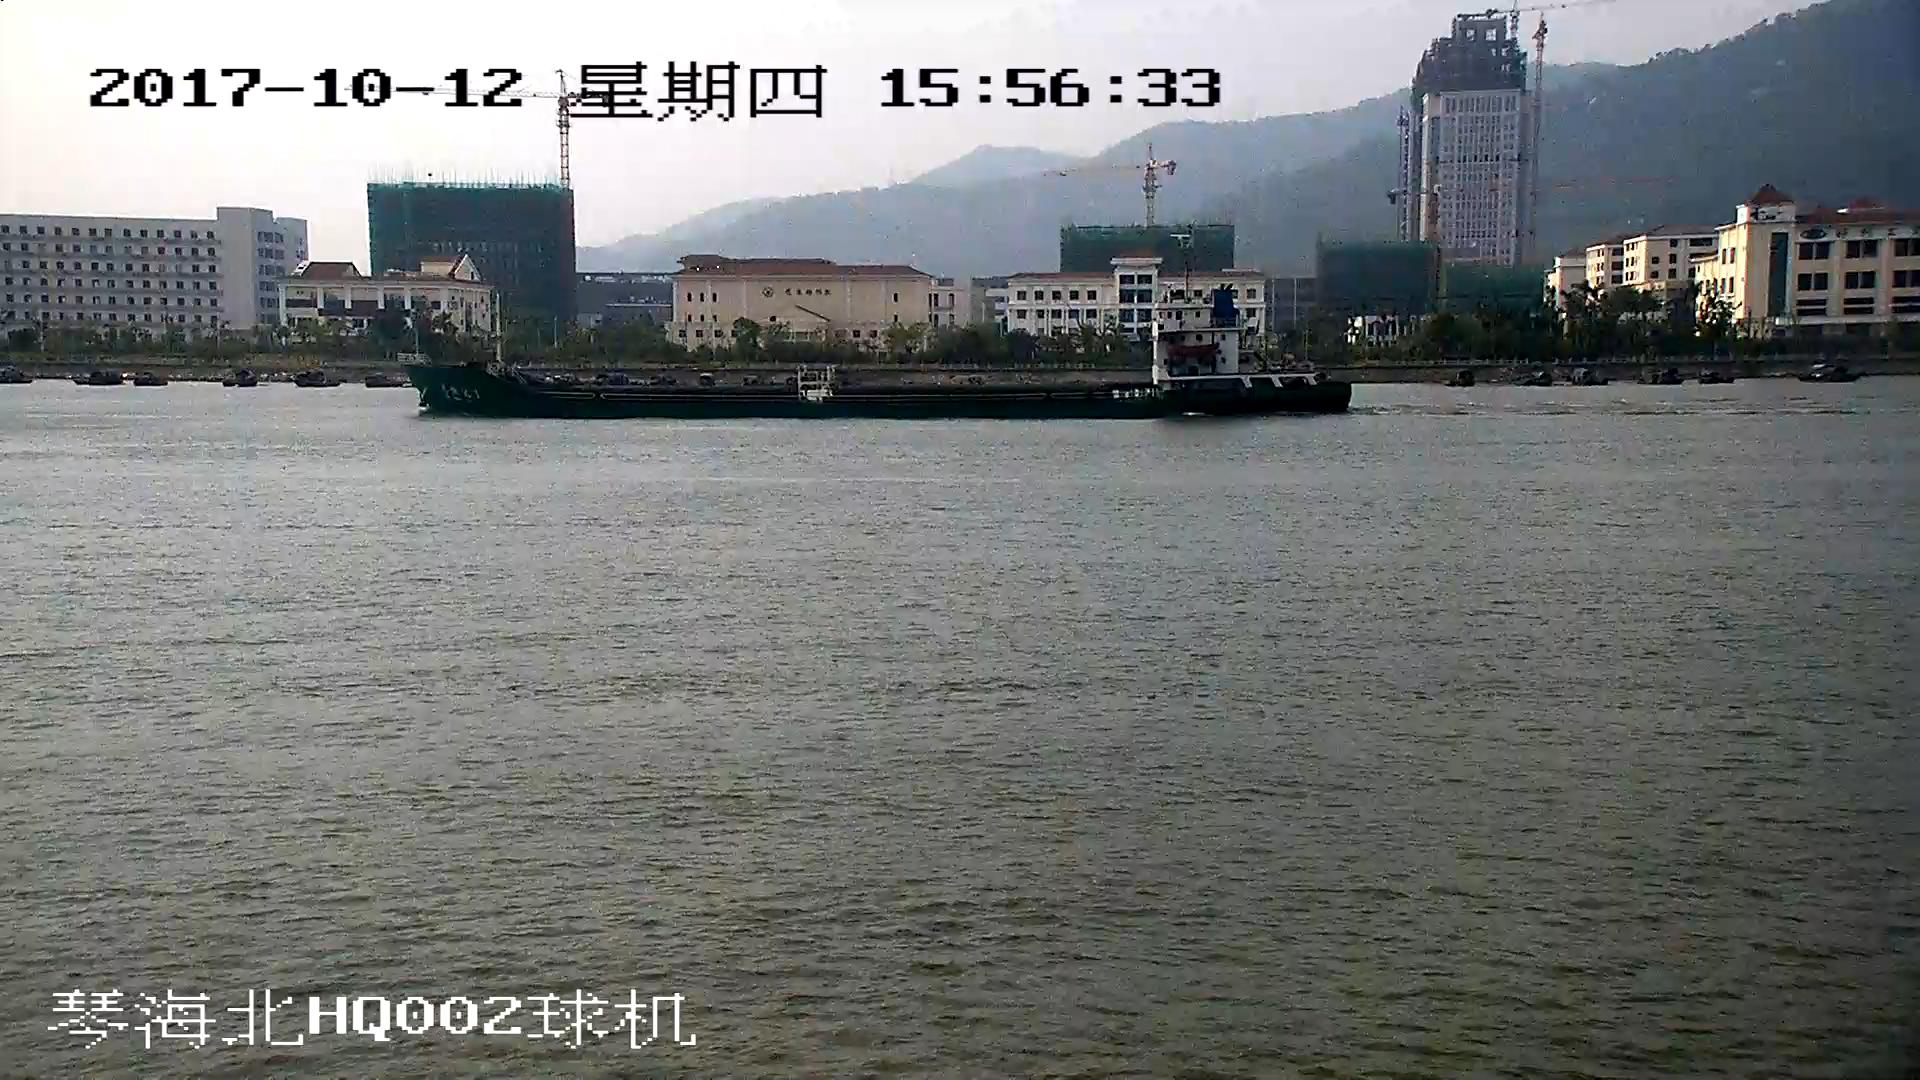general cargo ship: (391, 292, 1351, 415)
